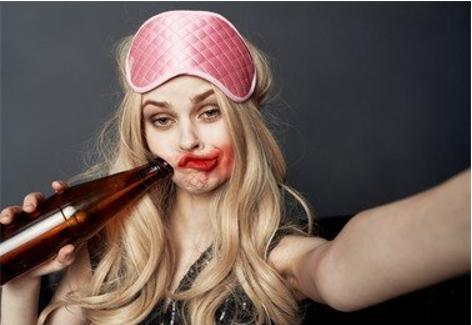Drunk: (142, 82, 237, 189)
